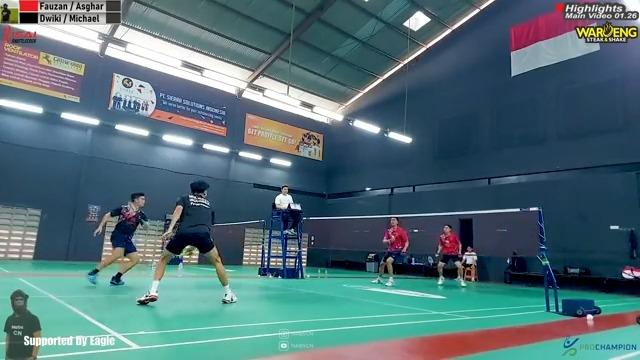Shuttlecock: (364, 186, 374, 192)
